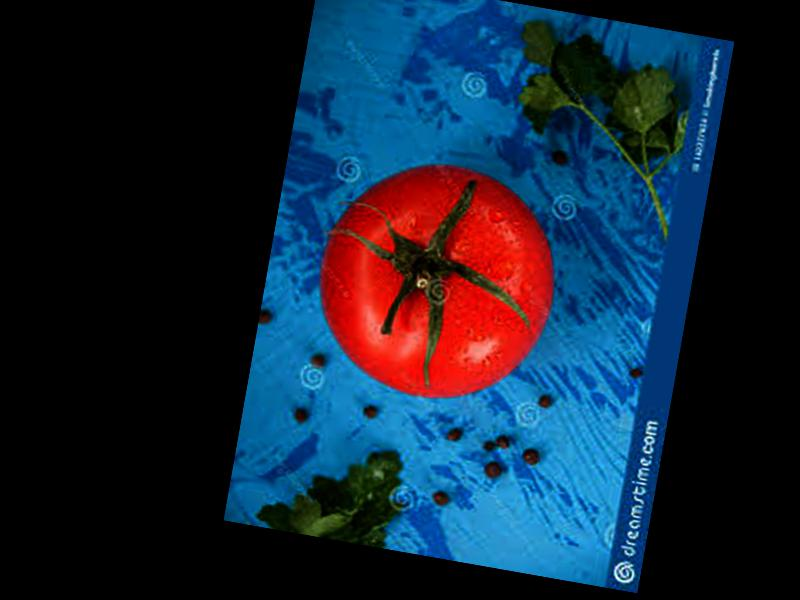Tomato: (303, 146, 572, 415)
